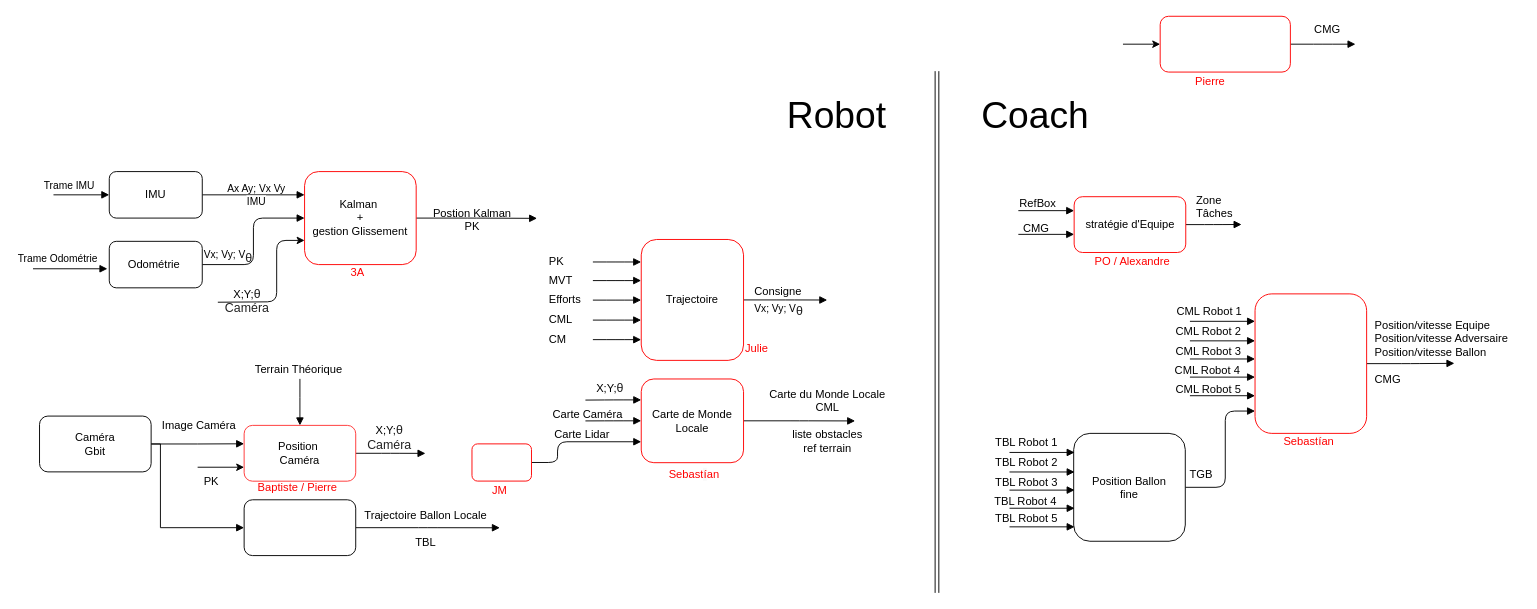
Some shapes in this 1537 by 609 pixel diagram are drawn without their labels. The centre of each missing label's shape, as x and y in pixels:
"Carte du Monde Globale" goes at (1310,363).
"Détection Ballon" goes at (299,527).
"Lidar" goes at (501,462).
"Simulation Carte du Monde Globale" goes at (1224,43).
